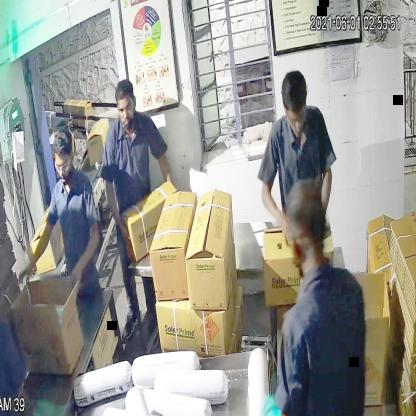goggles: (53, 153, 74, 176)
